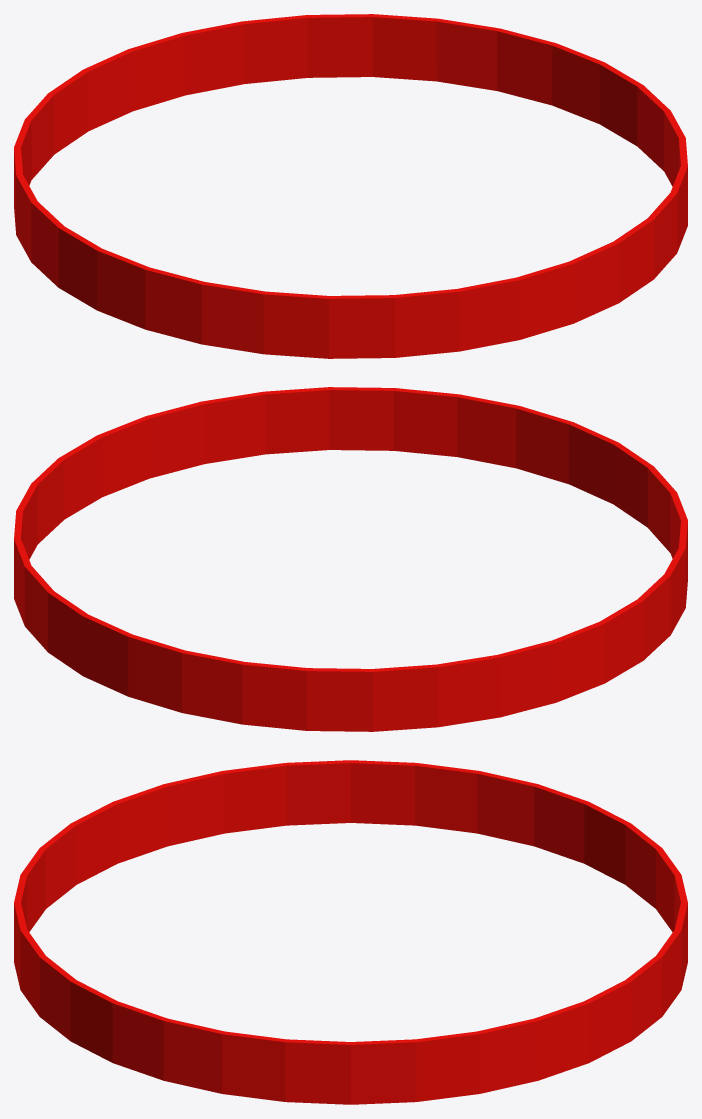
Rendered from hollowcircle_thick.fbx.
3 views of the same model, one above another, from view 1: azimuth 30°, elevation 25°; view 2: azimuth 150°, elevation 25°; view 3: azimuth 270°, elevation 25° (orthographic).
Parts seen in each view (by area): view 1: Cylinder; view 2: Cylinder; view 3: Cylinder.
Boxes of the visible parts, x1,y1,x2,y2 form: Cylinder: (14, 14, 687, 358); Cylinder: (14, 387, 687, 731); Cylinder: (14, 760, 687, 1104).
Size of the model in its own units: 204 by 20 by 204.
